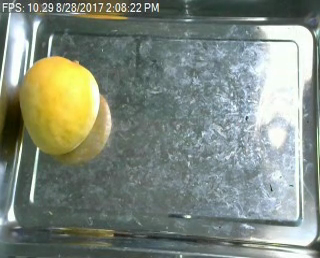Mango: (16, 52, 100, 155)
